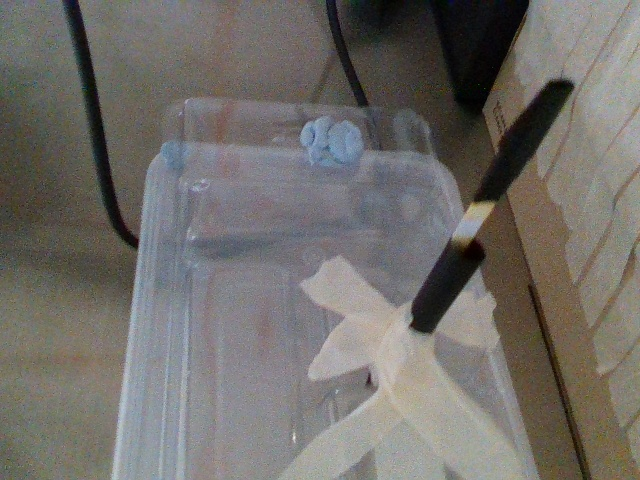test_strip: (453, 73, 573, 245)
